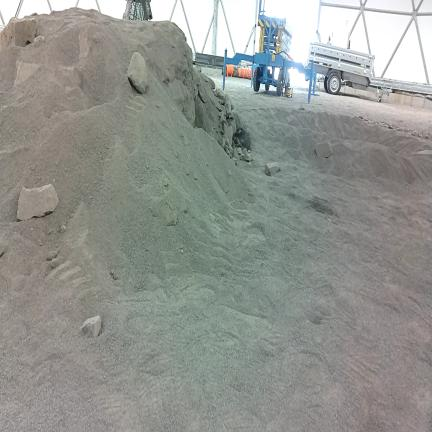Rock: (17, 184, 58, 221), (0, 18, 37, 50), (127, 52, 147, 93), (14, 61, 39, 86), (56, 66, 83, 88), (168, 80, 187, 109), (81, 316, 101, 337), (79, 29, 90, 60), (236, 128, 251, 149), (315, 143, 333, 158), (46, 258, 59, 275), (265, 162, 280, 176), (198, 83, 208, 103), (224, 126, 234, 146), (203, 75, 215, 89), (234, 113, 244, 129), (214, 89, 225, 103), (225, 94, 233, 112), (47, 249, 58, 261), (93, 32, 104, 43), (225, 96, 231, 116), (227, 119, 236, 132), (34, 35, 45, 44), (0, 243, 7, 257), (110, 270, 119, 280), (222, 136, 229, 148), (227, 106, 233, 119), (216, 134, 223, 145), (234, 136, 240, 146), (417, 150, 431, 154), (222, 106, 226, 119), (245, 154, 251, 162), (60, 225, 66, 233), (225, 146, 230, 154), (242, 148, 247, 155), (252, 160, 257, 167), (232, 157, 237, 164), (236, 148, 241, 155), (229, 146, 233, 154), (240, 154, 245, 160), (233, 158, 237, 165), (251, 157, 255, 161), (300, 107, 304, 110), (248, 150, 251, 153)
